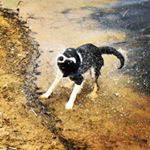puppy: (36, 42, 127, 115)
